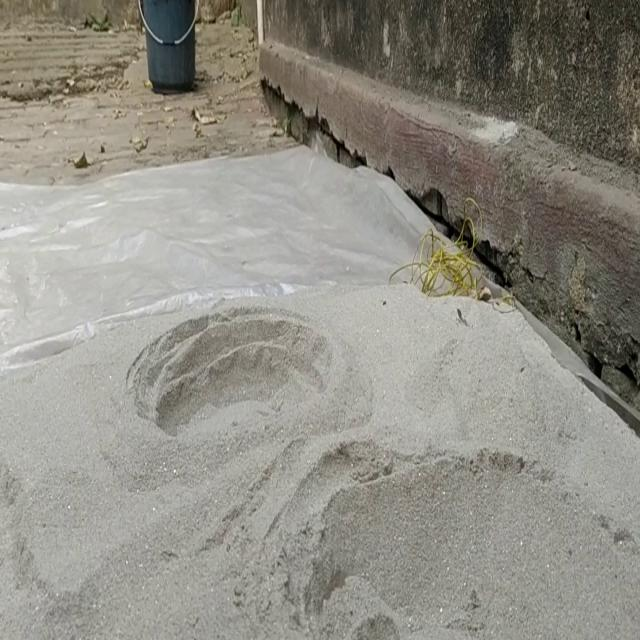C20: (305, 449, 640, 637), (134, 311, 328, 436)
